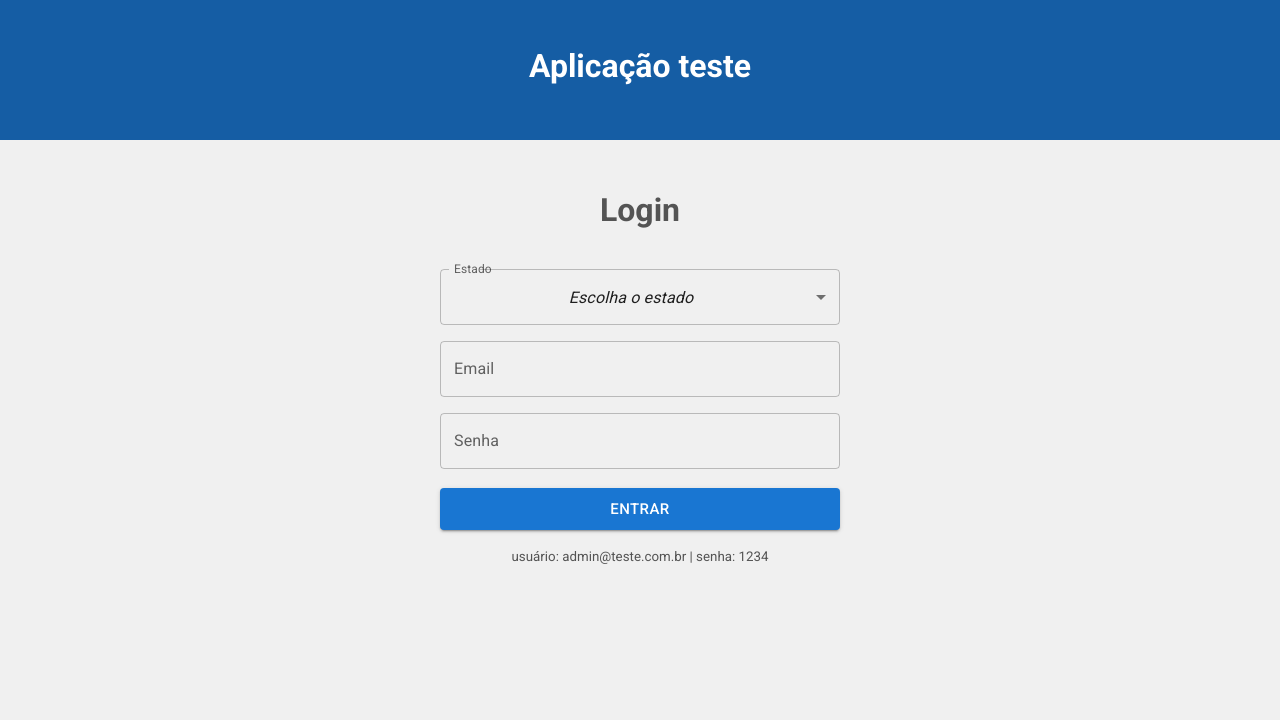
Test: Autenticação › Deve mostrar mensagem de erro ao entrar com dados inválidos
Type "email@email.com.br" into the element with test id "email". click: (640,369)
box: [440,341,840,397]
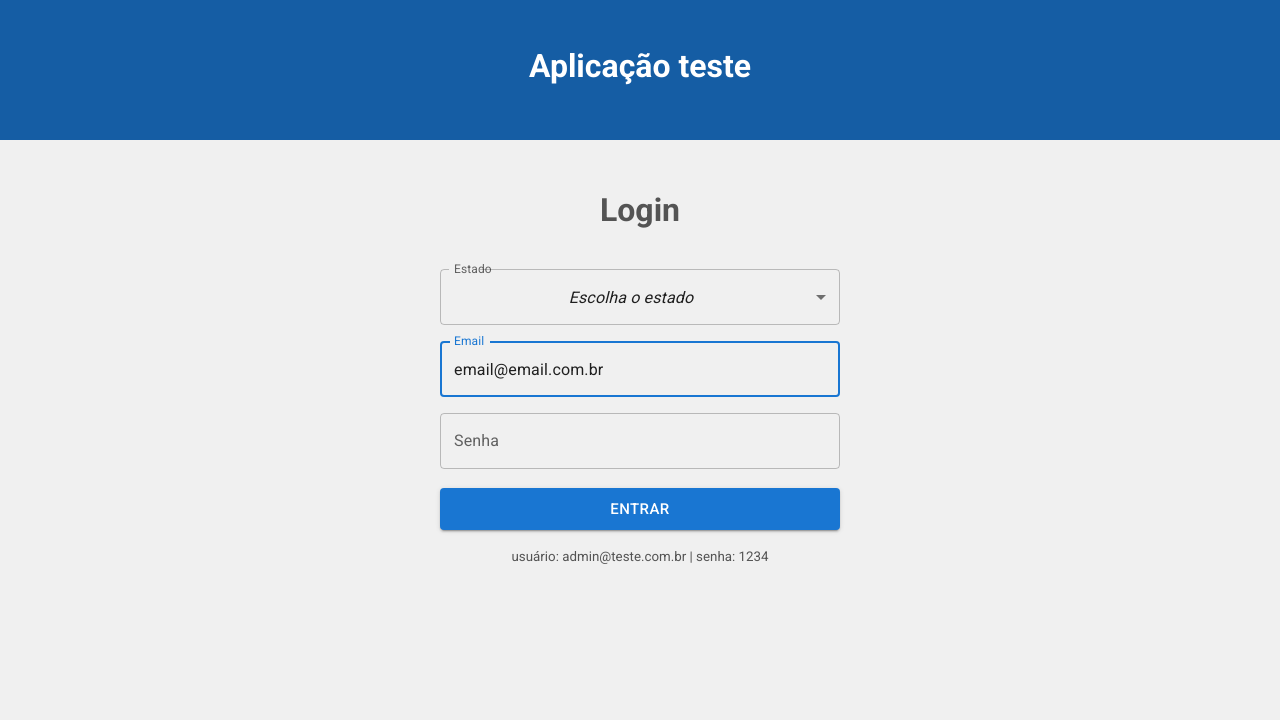
Type "teste" into the element with test id "password". click: (640,441)
box: [440,413,840,469]
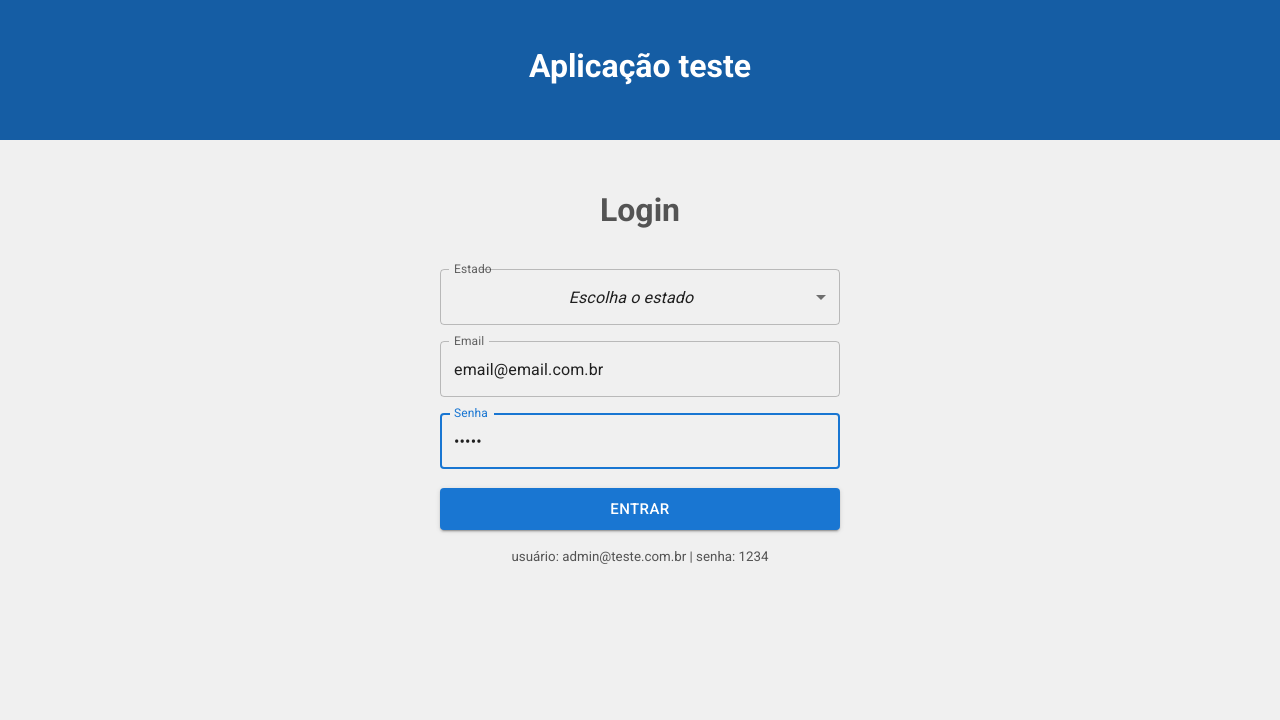
Click the button with test id "submit". click: (640,509)
box: [440,488,840,530]
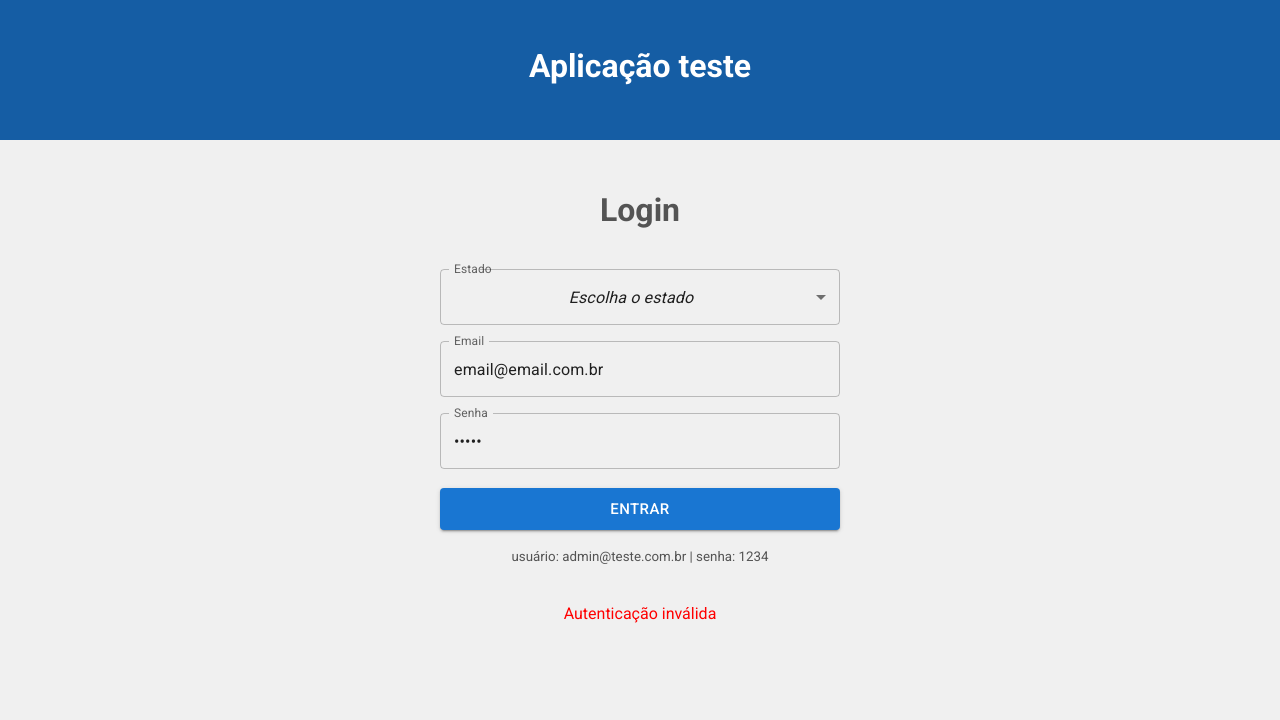
Now the text "Autenticação inválida" is shown, box [564,604,716,623]
